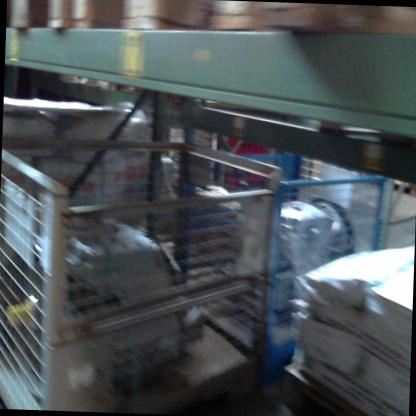pallet: (71, 0, 407, 51), (8, 0, 73, 41)
stillage: (0, 115, 281, 416), (170, 135, 394, 374)
